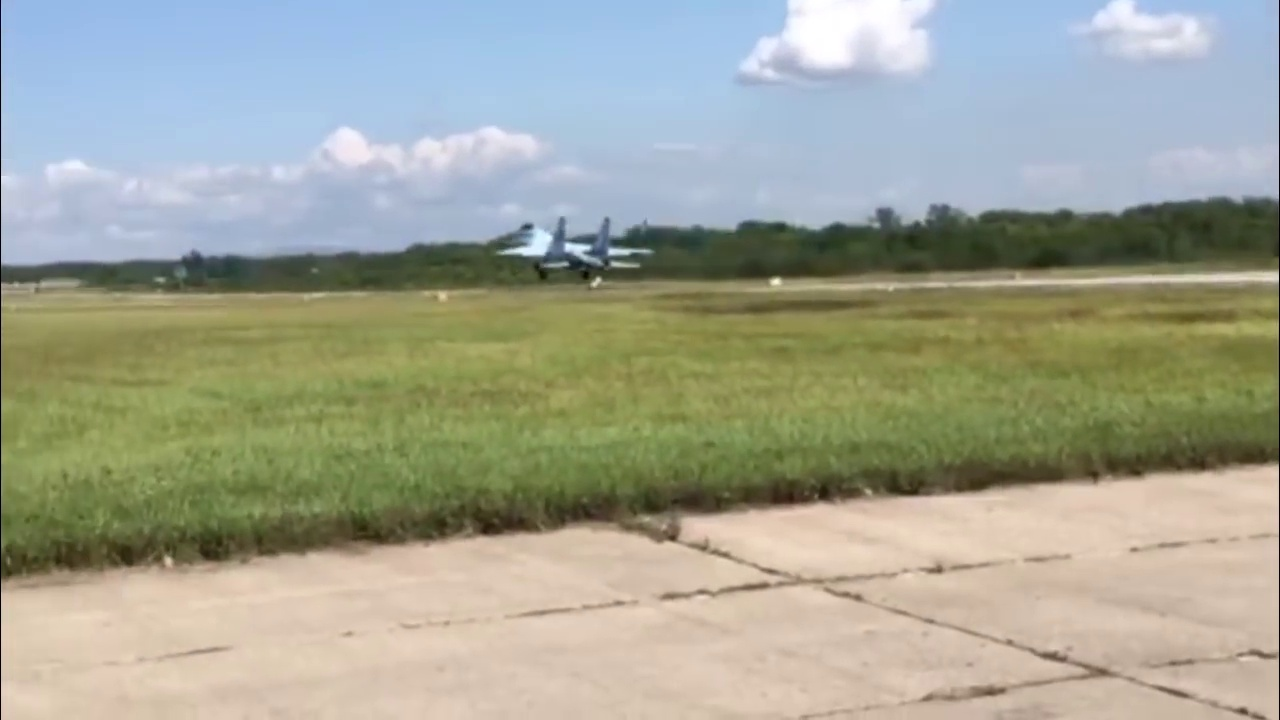Su35: (492, 210, 656, 289)
